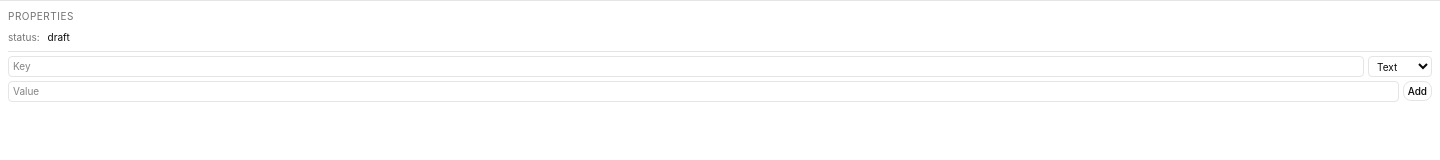
Test: PropertiesPanel › supports editing a property on double-click
The image size is (1440, 160).
Click the button "draft" at (59, 37), box [44,28,1421,47]
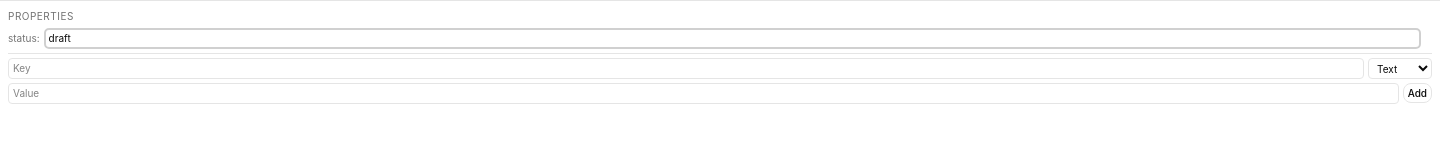
Now the field showing "draft" is shown, box [44,28,1421,49]
